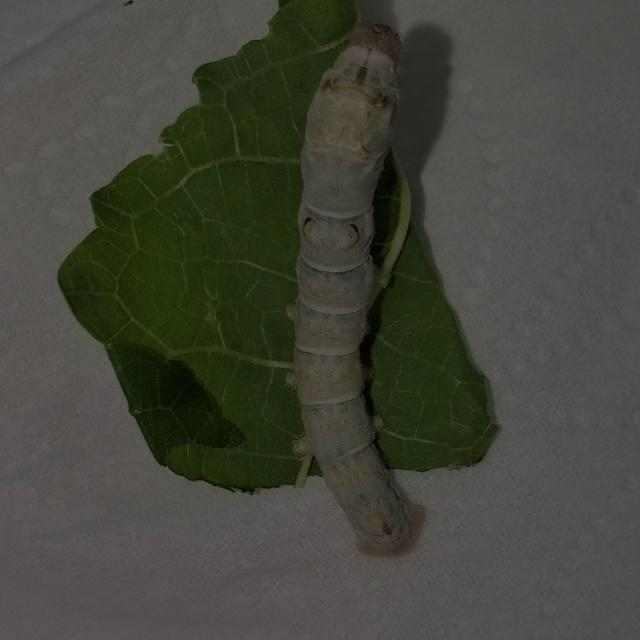Healthy: (274, 17, 446, 559)
